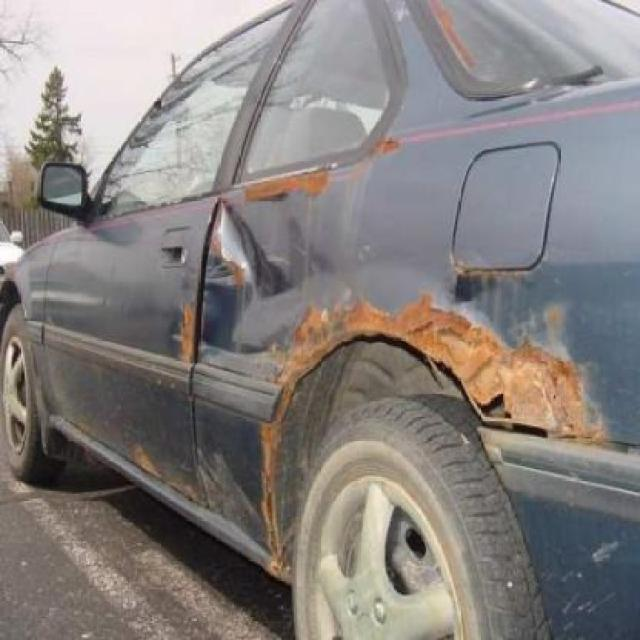corrosion: (119, 121, 598, 604)
